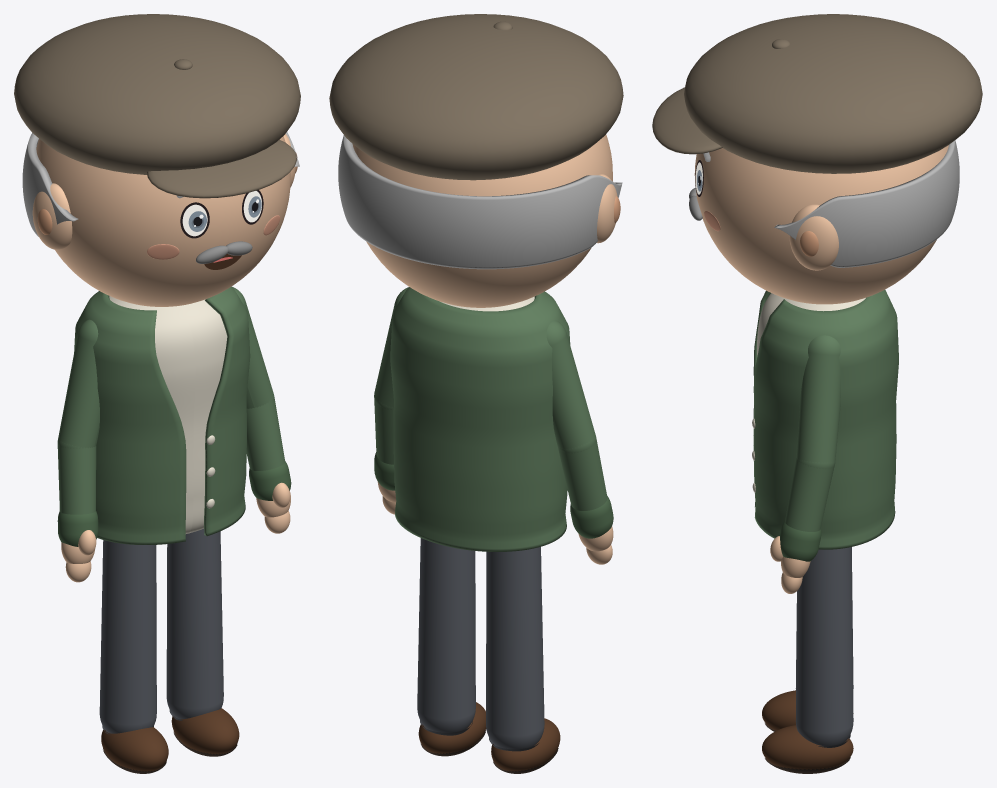
The model's file is hondenbaas.glb.
The picture shows the model from 3 angles, left to right: view 1: azimuth 30°, elevation 25°; view 2: azimuth 150°, elevation 25°; view 3: azimuth 270°, elevation 25°; orthographic projection. The views are drawn at different scales.
Visible parts, largest first — view 1: hondenbaas_pet, hondenbaas_vest, hondenbaas_hoofd, hondenbaas_been_R, hondenbaas_been_L, hondenbaas_romp, hondenbaas_pet_klep, hondenbaas_bovenarm_R, hondenbaas_onderarm_R, hondenbaas_schoen_R, hondenbaas_schoen_L, hondenbaas_onderarm_L (+5 smaller); view 2: hondenbaas_vest, hondenbaas_pet, hondenbaas_haar, hondenbaas_hoofd, hondenbaas_been_R, hondenbaas_been_L, hondenbaas_bovenarm_R, hondenbaas_onderarm_R, hondenbaas_schoen_R, hondenbaas_schoen_L, hondenbaas_manchet_R, hondenbaas_onderarm_L (+3 smaller); view 3: hondenbaas_pet, hondenbaas_vest, hondenbaas_hoofd, hondenbaas_been_L, hondenbaas_haar, hondenbaas_bovenarm_L, hondenbaas_schoen_L, hondenbaas_onderarm_L, hondenbaas_pet_klep, hondenbaas_oor_L, hondenbaas_manchet_L, hondenbaas_schoen_R (+1 smaller).
Part boxes in pixels (left/top/right/bottom): hondenbaas_pet: left=14, top=14, right=300, bottom=174; hondenbaas_vest: left=74, top=286, right=250, bottom=544; hondenbaas_hoofd: left=36, top=136, right=290, bottom=306; hondenbaas_been_R: left=99, top=540, right=156, bottom=733; hondenbaas_been_L: left=166, top=528, right=223, bottom=719; hondenbaas_romp: left=109, top=296, right=227, bottom=533; hondenbaas_pet_klep: left=147, top=140, right=296, bottom=198; hondenbaas_bovenarm_R: left=58, top=319, right=99, bottom=448; hondenbaas_onderarm_R: left=57, top=442, right=96, bottom=514; hondenbaas_schoen_R: left=101, top=727, right=168, bottom=771; hondenbaas_schoen_L: left=171, top=708, right=239, bottom=754; hondenbaas_onderarm_L: left=246, top=397, right=285, bottom=470; hondenbaas_vest: left=390, top=287, right=570, bottom=551; hondenbaas_pet: left=329, top=14, right=623, bottom=180; hondenbaas_haar: left=338, top=135, right=622, bottom=269; hondenbaas_hoofd: left=352, top=134, right=612, bottom=307; hondenbaas_been_R: left=486, top=547, right=544, bottom=749; hondenbaas_been_L: left=417, top=538, right=475, bottom=732; hondenbaas_bovenarm_R: left=546, top=320, right=595, bottom=452; hondenbaas_onderarm_R: left=558, top=439, right=607, bottom=510; hondenbaas_schoen_R: left=491, top=718, right=560, bottom=771; hondenbaas_schoen_L: left=418, top=702, right=486, bottom=753; hondenbaas_manchet_R: left=570, top=496, right=613, bottom=538; hondenbaas_onderarm_L: left=374, top=399, right=393, bottom=464; hondenbaas_pet: left=684, top=14, right=982, bottom=173; hondenbaas_vest: left=753, top=290, right=898, bottom=549; hondenbaas_hoofd: left=694, top=145, right=948, bottom=304; hondenbaas_been_L: left=795, top=547, right=853, bottom=746; hondenbaas_haar: left=774, top=140, right=959, bottom=267; hondenbaas_bovenarm_L: left=796, top=335, right=840, bottom=468; hondenbaas_schoen_L: left=762, top=725, right=853, bottom=769; hondenbaas_onderarm_L: left=785, top=458, right=835, bottom=531; hondenbaas_pet_klep: left=652, top=87, right=722, bottom=154; hondenbaas_oor_L: left=789, top=204, right=838, bottom=270; hondenbaas_manchet_L: left=780, top=521, right=821, bottom=561; hondenbaas_schoen_R: left=762, top=690, right=853, bottom=730.
Size of the model in its own units: 0.6887 by 1.82 by 0.7632.
